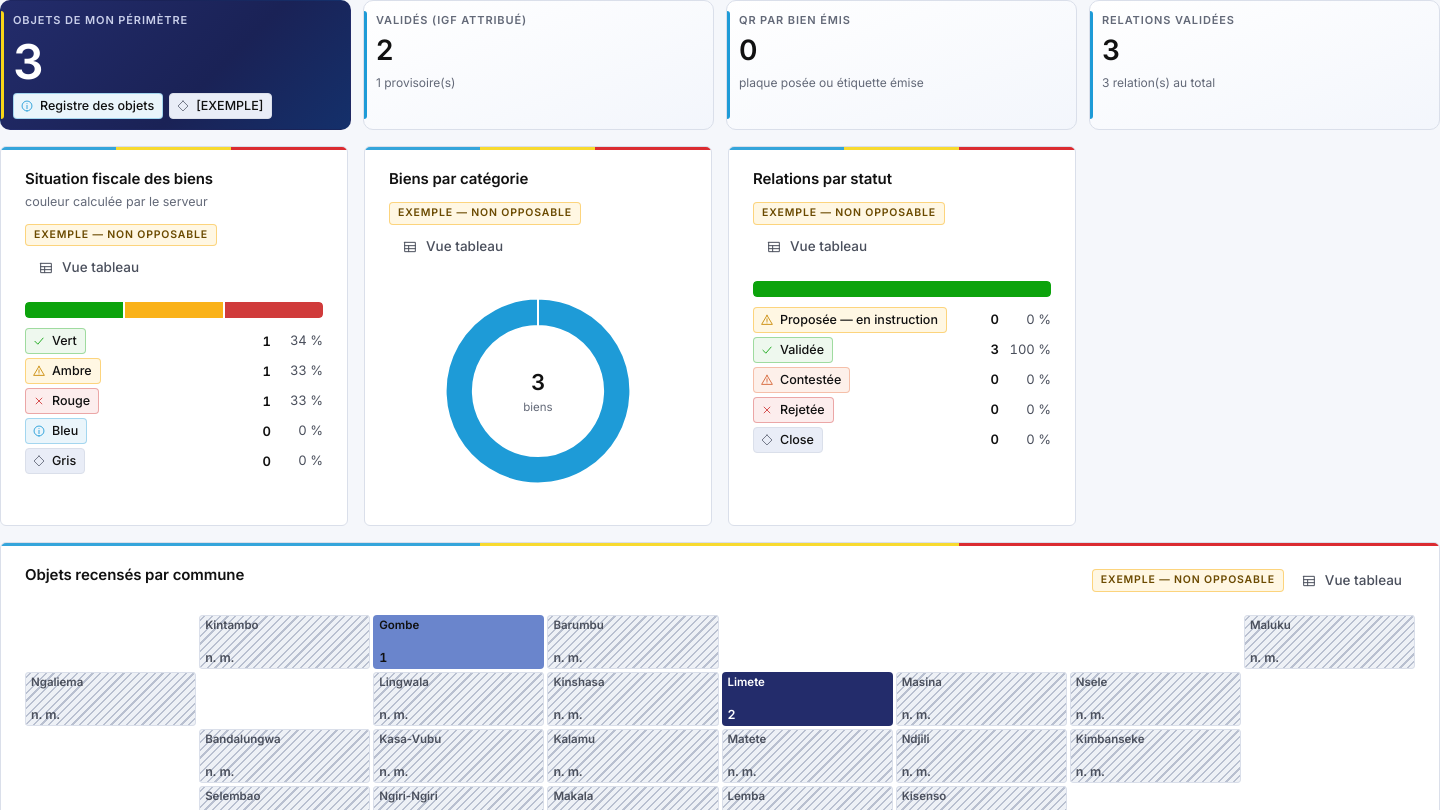
Test: Biens et relations — résumé visuel › tuiles, répartition des couleurs de situation, catégories, carte des communes (agent) et vue tableau
Expected: the heading "Objets de mon périmètre" is shown, [13,13,188,27]
Expected: the heading "Situation fiscale des biens" is shown, [25,167,213,190]
Click the button "Vue tableau" below "couleur calculée par le serveur": {"x": 89, "y": 268} [25,250,152,286]
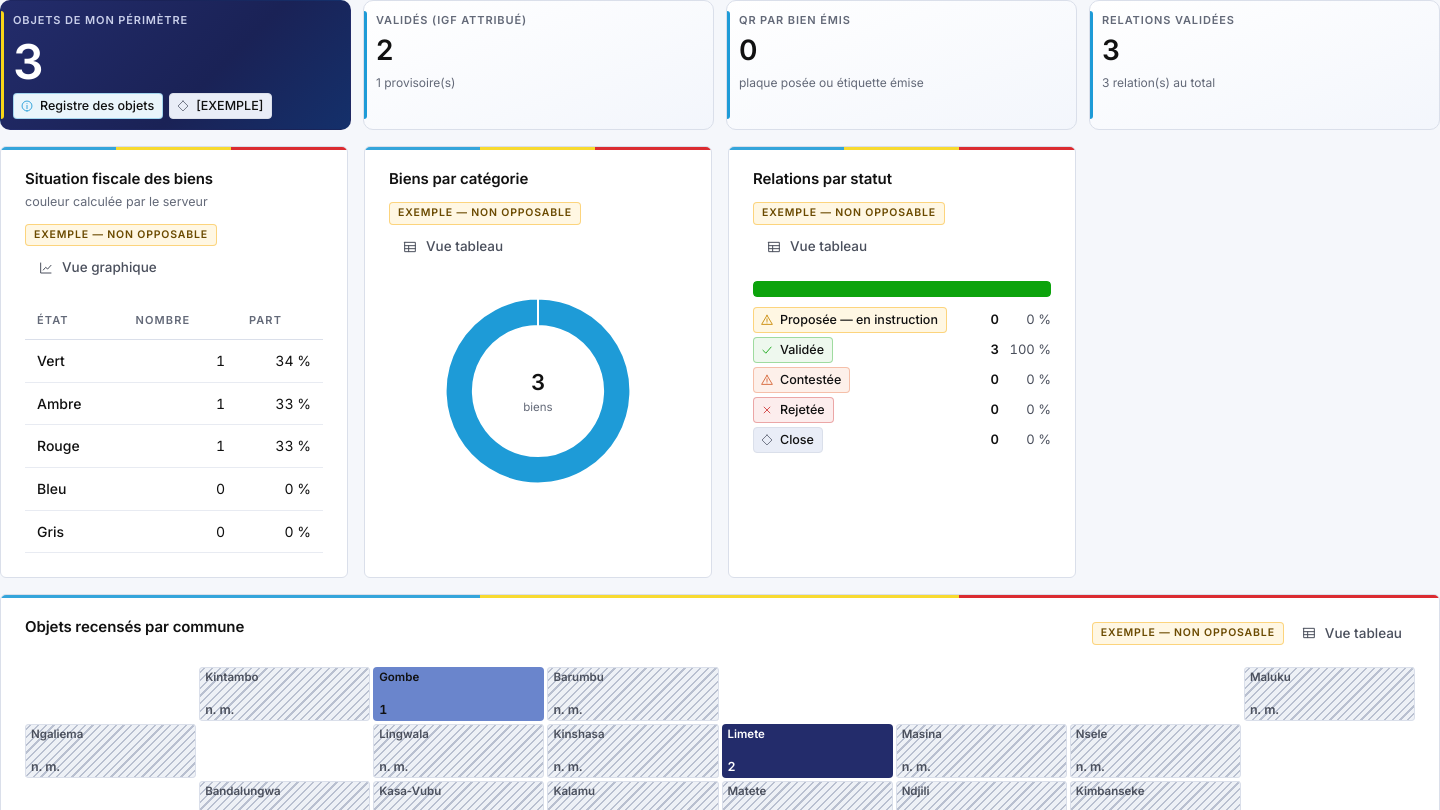
Expected: the table is shown, [25,302,323,553]
